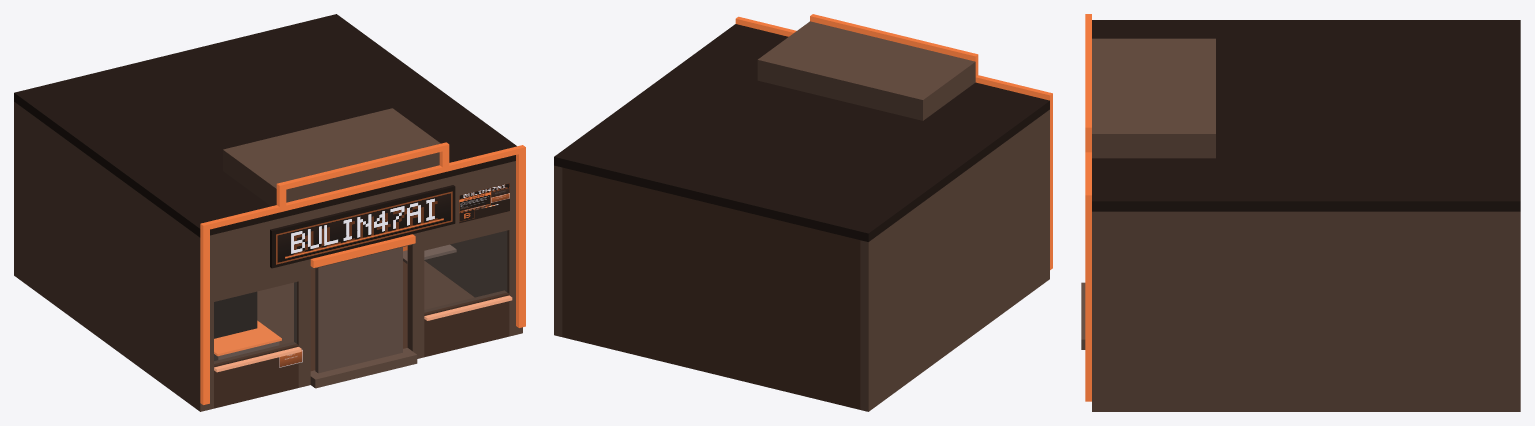
The model's file is plot.glb.
The picture shows the model from 3 angles, left to right: view 1: azimuth 30°, elevation 25°; view 2: azimuth 150°, elevation 25°; view 3: azimuth 270°, elevation 25°; orthographic projection. The views are drawn at different scales.
Visible parts, largest first — view 1: facade, neon, sign_1, door_panel_L, door_panel_R, pic_1, lintel; view 2: facade, neon; view 3: facade, neon.
Boxes of the visible parts, x1,y1,x2,y2 form: facade: (14,14,522,411); neon: (200,142,525,404); sign_1: (276,191,452,264); door_panel_L: (315,257,360,373); door_panel_R: (360,247,402,362); pic_1: (459,183,509,223); lintel: (310,234,415,267); facade: (554,21,1049,411); neon: (735,14,1052,269); facade: (1081,20,1520,411); neon: (1085,14,1091,401).
Size of the model in its own units: 9.5 by 5.9 by 9.74.
Materials: 4 (3 with a texture image).
